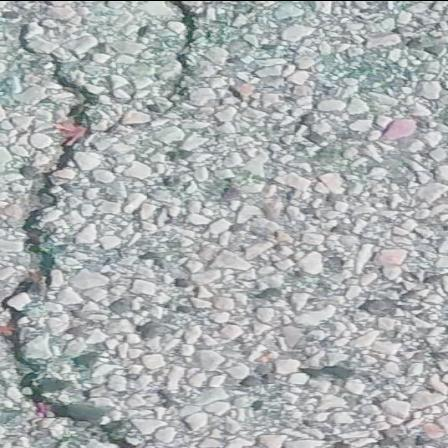crack: (0, 14, 139, 448), (159, 0, 203, 119)
